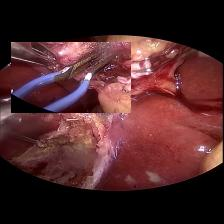Bipolar: (12, 41, 131, 112)
Grasper: (0, 83, 67, 136)
